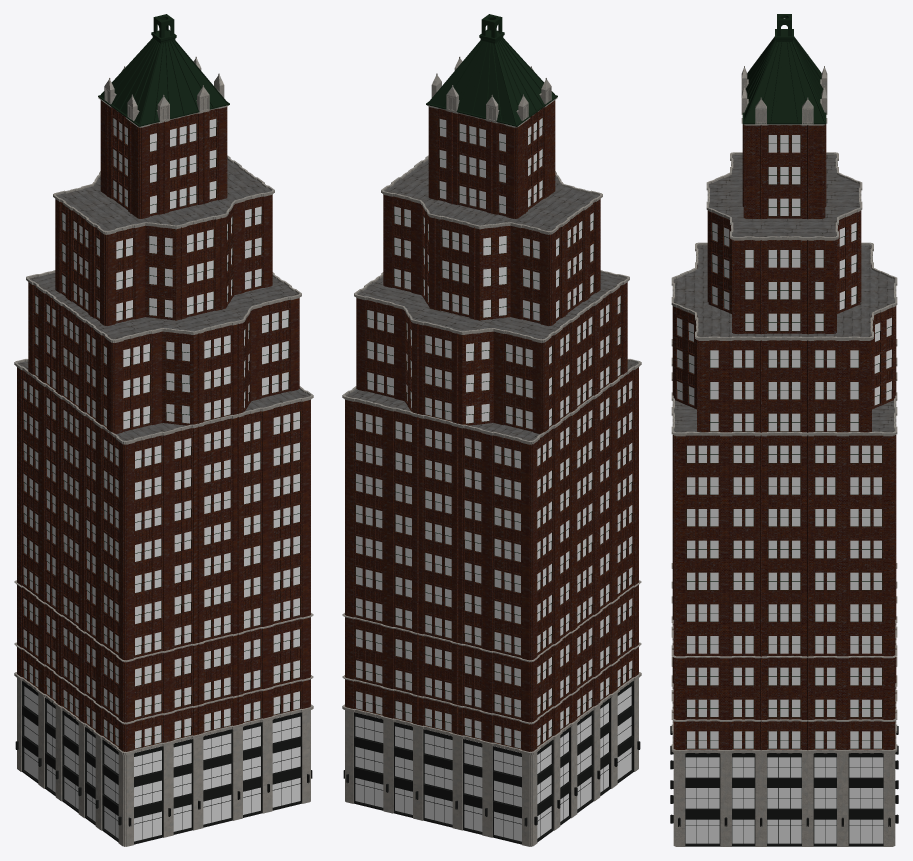
Rendered from Building_03.fbx.
3 renders of one model, left to right at view 1: azimuth 30°, elevation 25°; view 2: azimuth 150°, elevation 25°; view 3: azimuth 270°, elevation 25°, orthographic. The views are drawn at different scales.
Visible parts, largest first — view 1: Building_03_LOD0; view 2: Building_03_LOD0; view 3: Building_03_LOD0.
Part boxes in pixels (x1,y1,x2,y2): Building_03_LOD0: (14, 14, 313, 846); Building_03_LOD0: (342, 14, 641, 846); Building_03_LOD0: (670, 14, 898, 846).
Size of what is drawn, in the model's own units: 2383 by 9018 by 2383.
